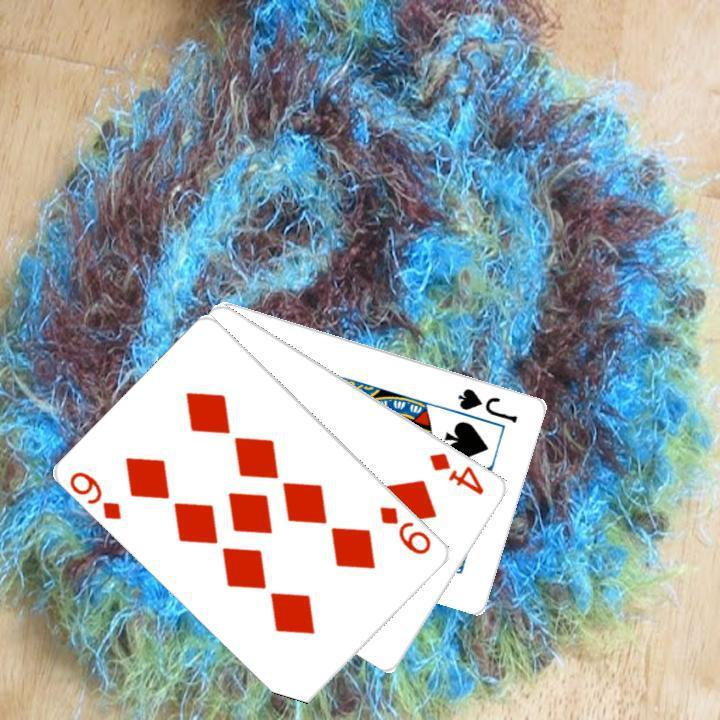4: (425, 447, 487, 497)
9: (65, 467, 124, 522), (376, 502, 434, 557)
J: (454, 383, 520, 425)
